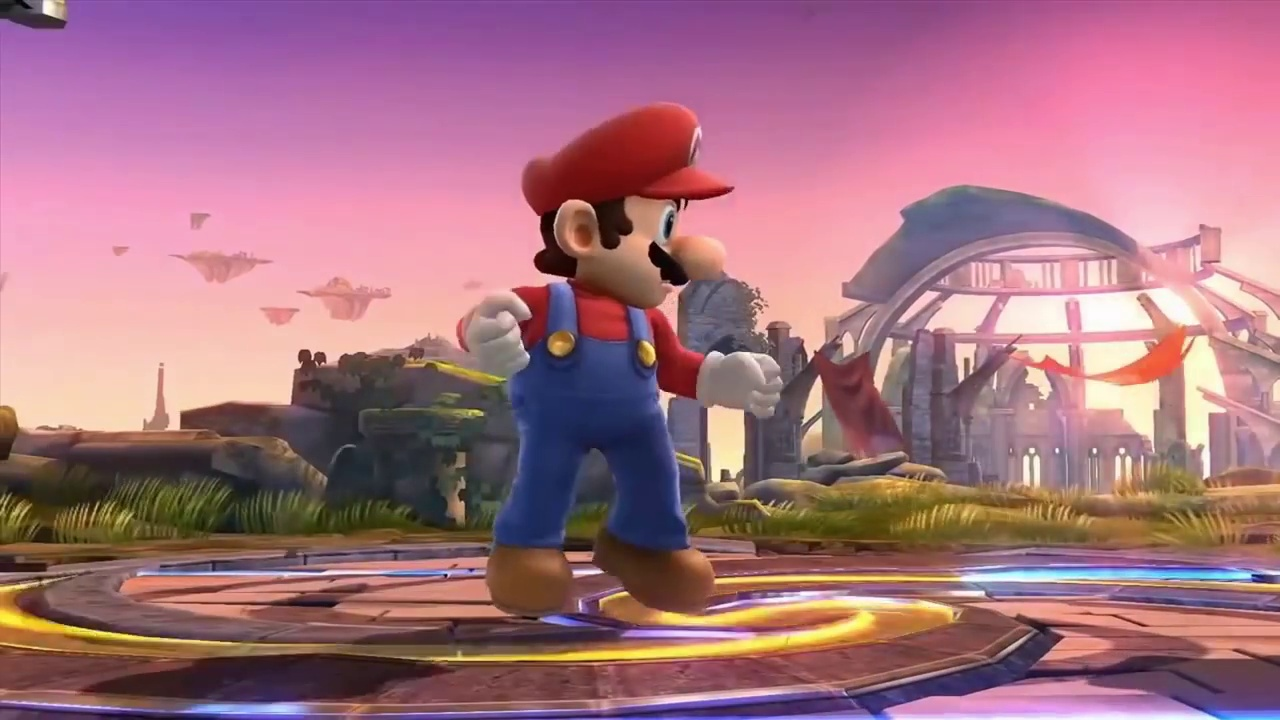Mario: (458, 102, 782, 610)
